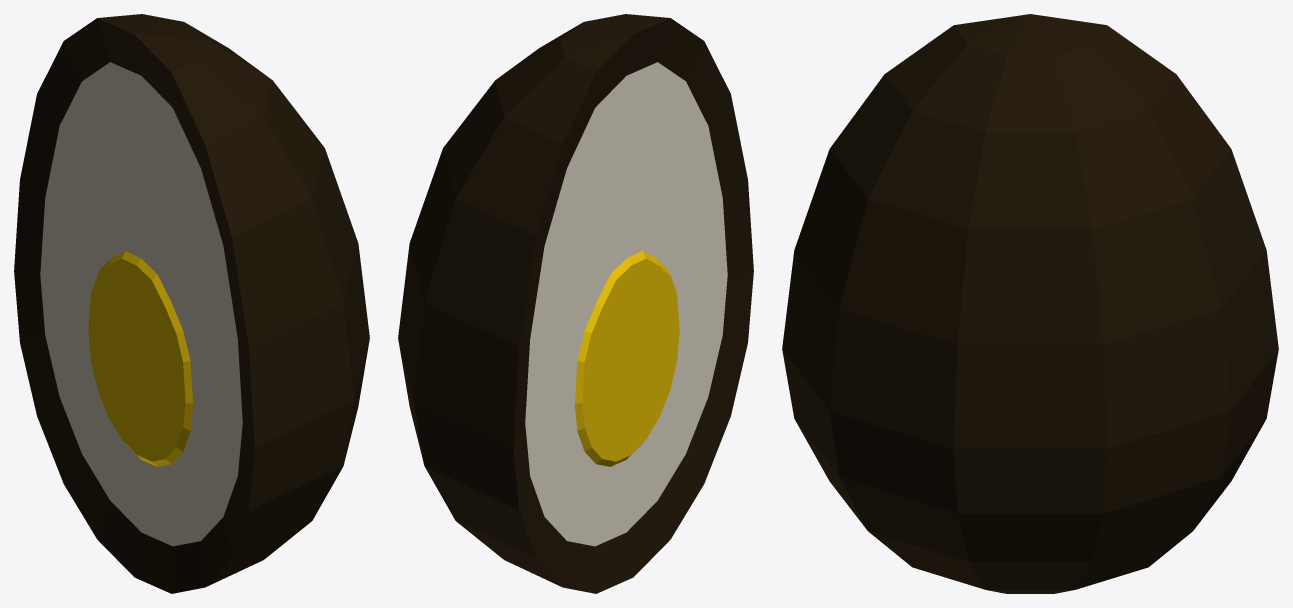
The model's file is Scottish_egg.fbx.
The picture shows the model from 3 angles, left to right: view 1: azimuth 30°, elevation 25°; view 2: azimuth 150°, elevation 25°; view 3: azimuth 270°, elevation 25°; orthographic projection. The views are drawn at different scales.
Visible parts, largest first — view 1: pasted__pasted__pSphere1; view 2: pasted__pasted__pSphere1; view 3: pasted__pasted__pSphere1.
Part boxes in pixels (x1,y1,x2,y2): pasted__pasted__pSphere1: (14, 14, 369, 593); pasted__pasted__pSphere1: (398, 14, 753, 593); pasted__pasted__pSphere1: (782, 14, 1278, 593).
Size of the model in its own units: 0.7366 by 1.93 by 1.55.
